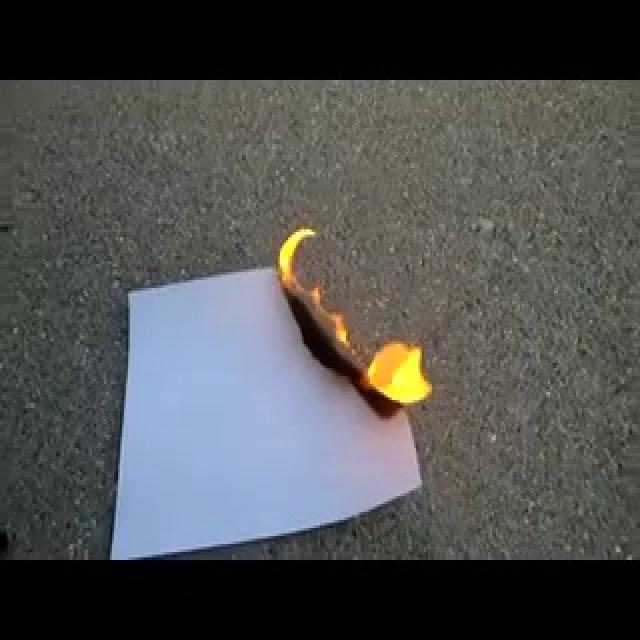fire: (266, 196, 424, 415)
